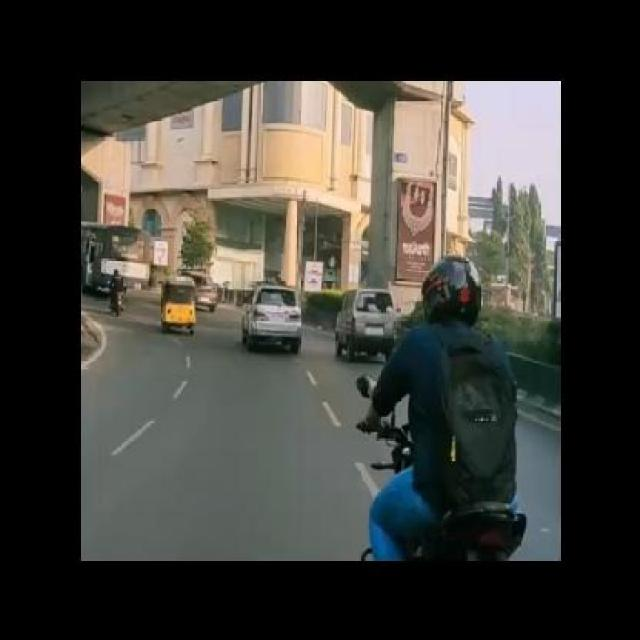car: (337, 286, 403, 362), (242, 283, 303, 357)
